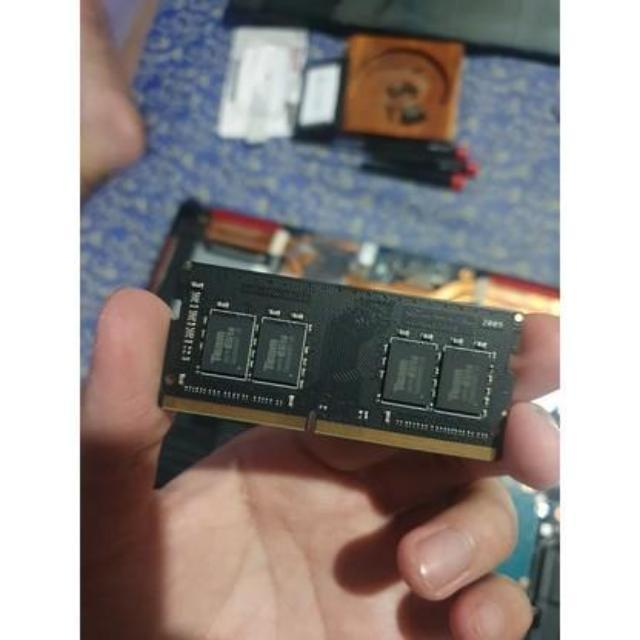RAM: (147, 262, 536, 478)
